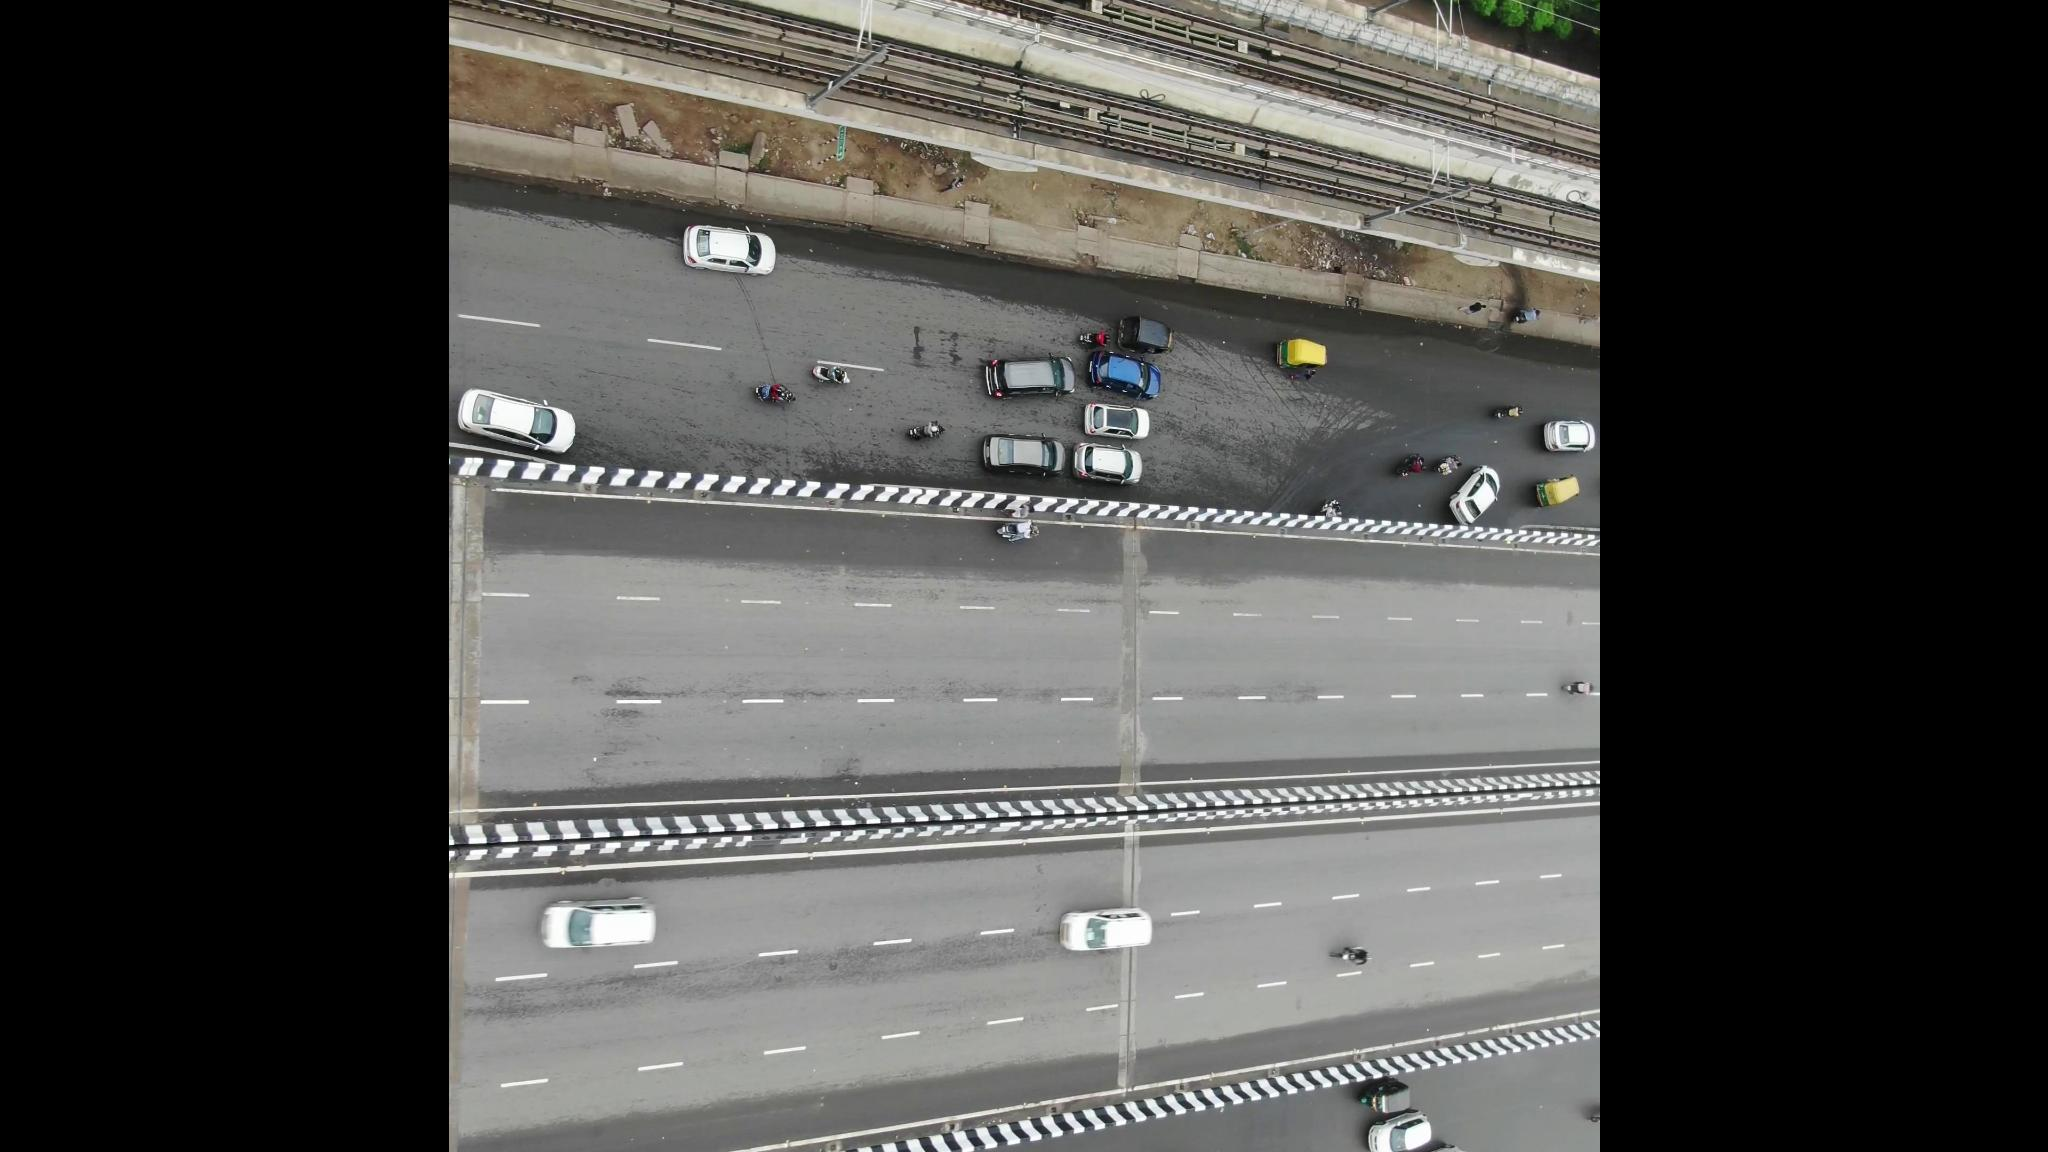Ravelling: (616, 660, 907, 743), (748, 926, 1049, 1003), (477, 954, 712, 1038), (938, 657, 1110, 722), (1175, 655, 1338, 710)
